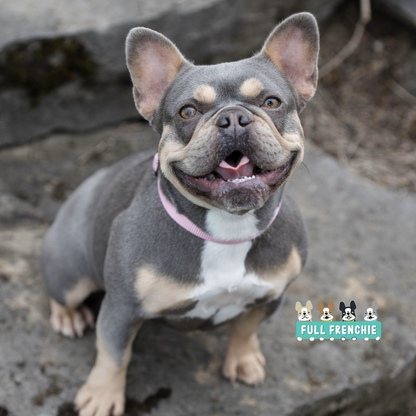bulldog: (44, 12, 332, 416)
